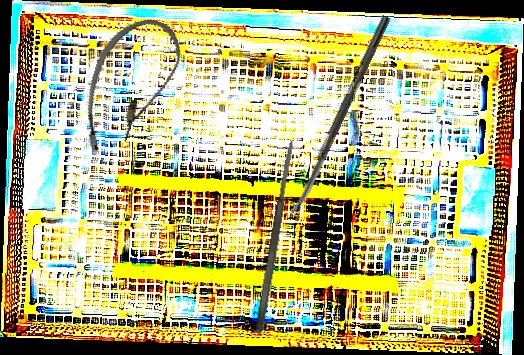Cannula: (70, 7, 190, 168)
Spatula Surgical: (252, 138, 299, 335)
Surgical Spoon: (287, 14, 391, 222)
